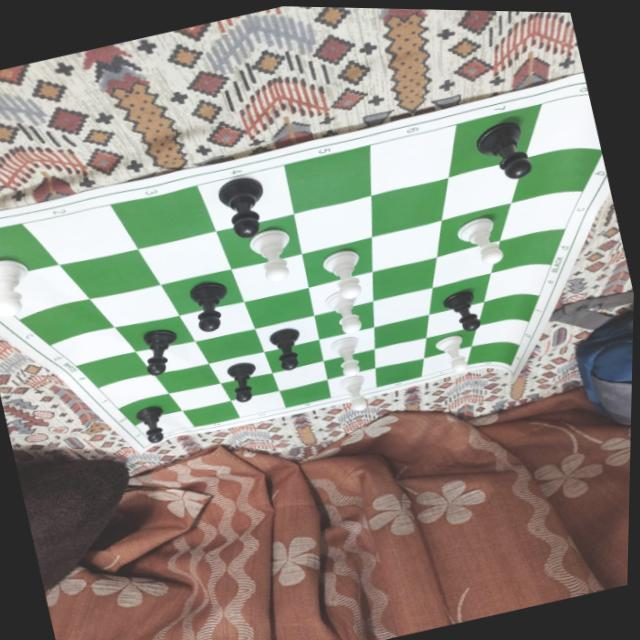board: (0, 86, 589, 453)
square: (21, 204, 137, 264), (448, 103, 541, 177), (110, 185, 215, 248), (196, 165, 293, 231), (370, 124, 456, 195), (283, 145, 371, 213), (442, 158, 524, 220), (137, 231, 231, 284), (58, 249, 159, 298), (511, 149, 602, 202), (0, 265, 89, 319), (216, 213, 301, 269), (524, 96, 601, 157), (370, 177, 448, 236), (293, 195, 372, 253), (19, 298, 114, 345), (500, 191, 582, 240), (437, 203, 511, 257), (88, 284, 179, 327), (230, 253, 308, 302), (160, 269, 243, 315), (371, 219, 441, 272), (301, 237, 372, 287), (490, 228, 565, 273), (0, 223, 58, 281), (50, 327, 135, 366), (433, 240, 499, 287), (178, 301, 254, 341), (114, 315, 195, 352), (244, 287, 314, 329), (308, 271, 373, 315), (76, 351, 153, 388), (372, 256, 436, 300), (429, 273, 491, 314), (483, 264, 550, 301), (97, 374, 169, 408), (195, 328, 264, 363), (135, 341, 208, 374), (373, 287, 432, 327), (255, 315, 319, 351), (314, 301, 374, 339), (118, 393, 182, 426), (426, 301, 484, 337), (208, 351, 272, 383), (154, 363, 220, 393), (476, 295, 539, 326), (264, 339, 323, 372), (318, 327, 374, 361), (374, 314, 428, 348), (168, 383, 231, 411), (424, 325, 477, 358), (272, 360, 328, 391), (135, 410, 194, 439), (220, 372, 279, 400), (374, 337, 427, 368), (323, 349, 376, 379), (421, 346, 472, 376), (230, 390, 285, 417), (279, 379, 331, 407), (327, 368, 377, 397), (472, 321, 529, 346), (183, 401, 239, 426), (375, 358, 423, 387), (468, 345, 520, 365)
